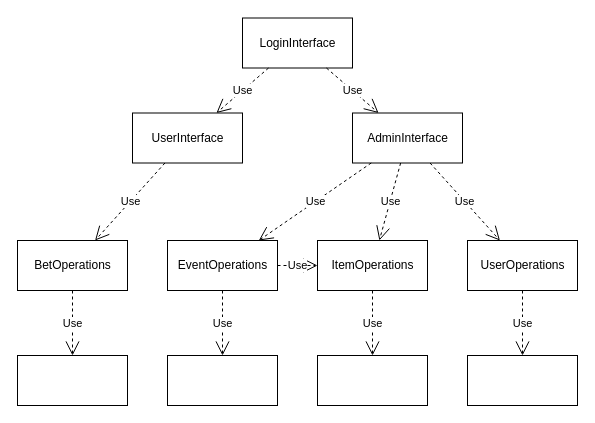
Some shapes in this 595 by 423 pixel diagram are drawn without their labels. Each missing label, with the centre of its shape:
"BetDAO" belongs at [72,380].
"EventDAO" belongs at [222,380].
"ItemDAO" belongs at [372,380].
"UserDAO" belongs at [522,380].
